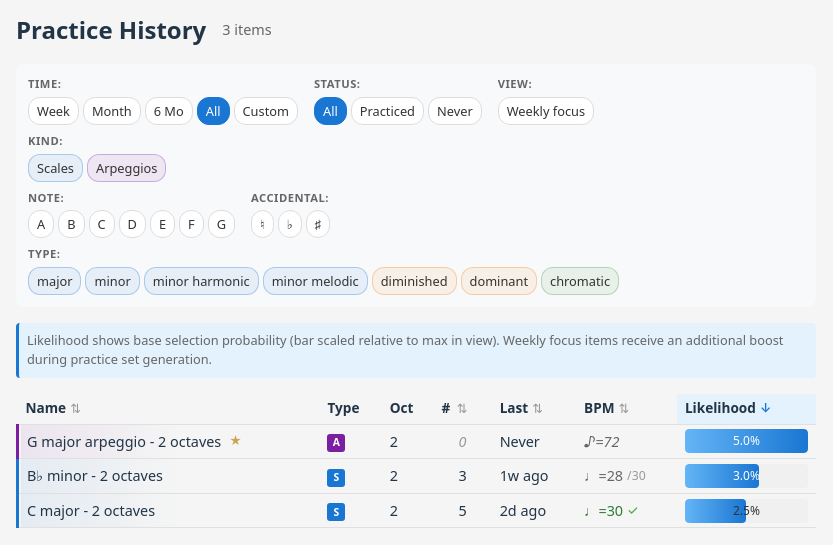
Test: HistoryPage › should filter by practice status
The width and height of the screenshot is (833, 545).
Expected: the text "C major - 2 octaves" is shown, [27,501,155,520]
Click Never chip (the button, not the table cell)
Step 1. Click the button "Never" → (455, 111), box [428,97,482,125]
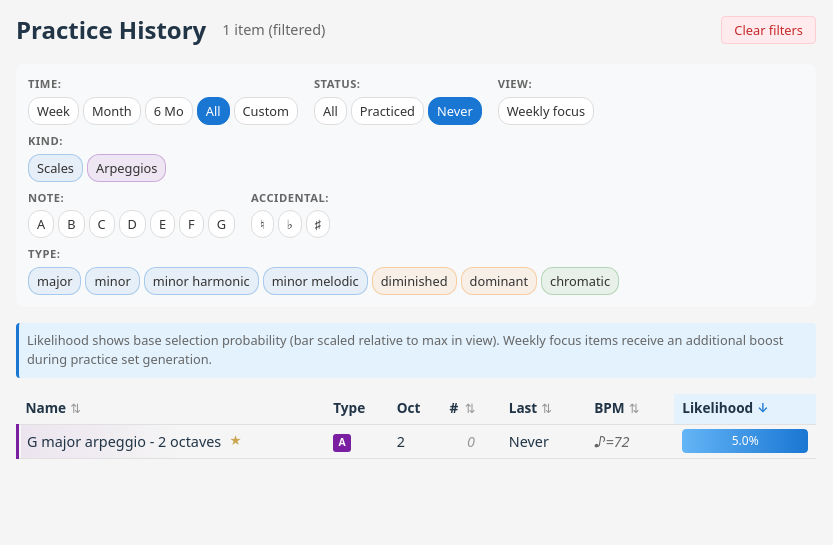
Expected: the text "G major arpeggio - 2 octaves" is shown, [27,432,221,450]
Expected: the text "1 item (filtered)" is shown, [222,19,326,41]
Expected: the text "C major - 2 octaves" is gone
